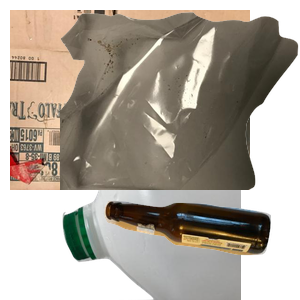cardboard: (10, 10, 250, 190)
glass: (101, 198, 300, 300)
plastic: (60, 120, 300, 300)
trash: (60, 10, 300, 190)
